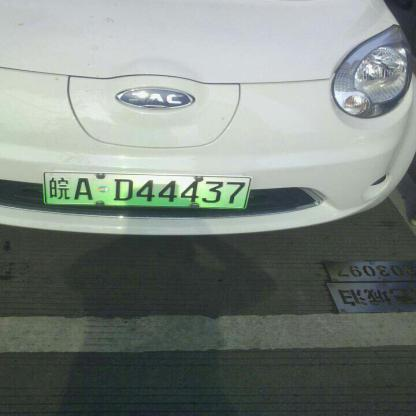lp: (46, 172, 246, 210)
